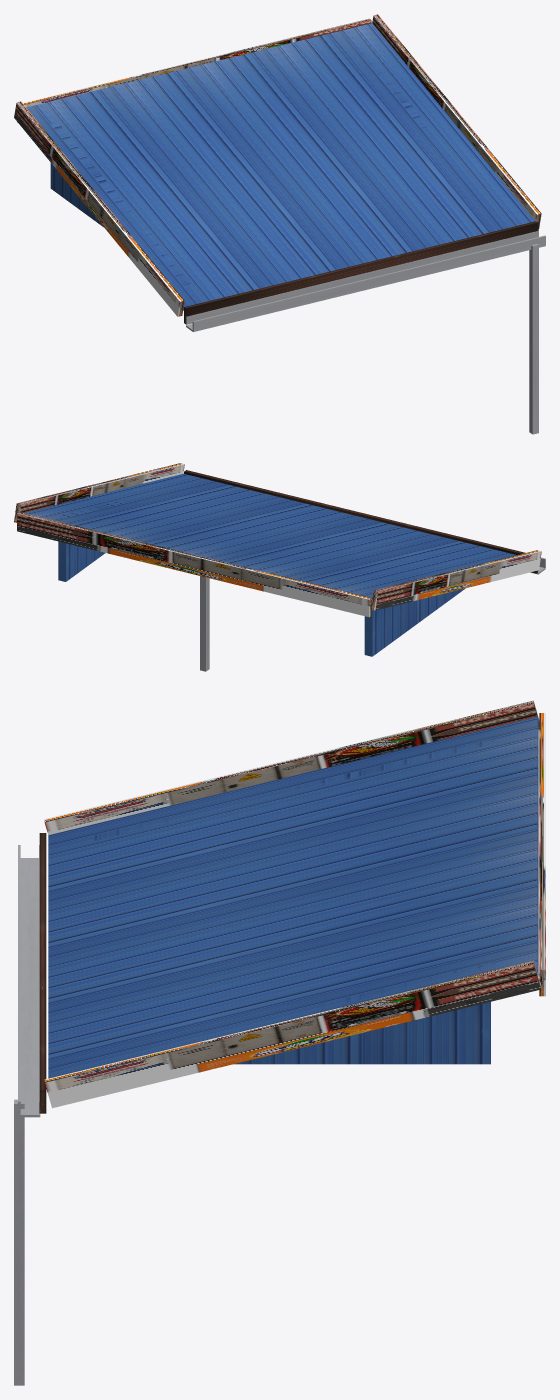
File: Roof_Shed_4x3.fbx
3 renders of one model, top to bottom at view 1: azimuth 30°, elevation 25°; view 2: azimuth 150°, elevation 25°; view 3: azimuth 270°, elevation 25°, orthographic. The views are drawn at different scales.
Visible parts, largest first — view 1: Roof_Shed_4x3; view 2: Roof_Shed_4x3; view 3: Roof_Shed_4x3.
Boxes of the visible parts, x1,y1,x2,y2 form: Roof_Shed_4x3: [14, 14, 545, 434]; Roof_Shed_4x3: [14, 463, 545, 671]; Roof_Shed_4x3: [14, 700, 545, 1385].
Size of the model in its own units: 4.72 by 3.6 by 4.02.
